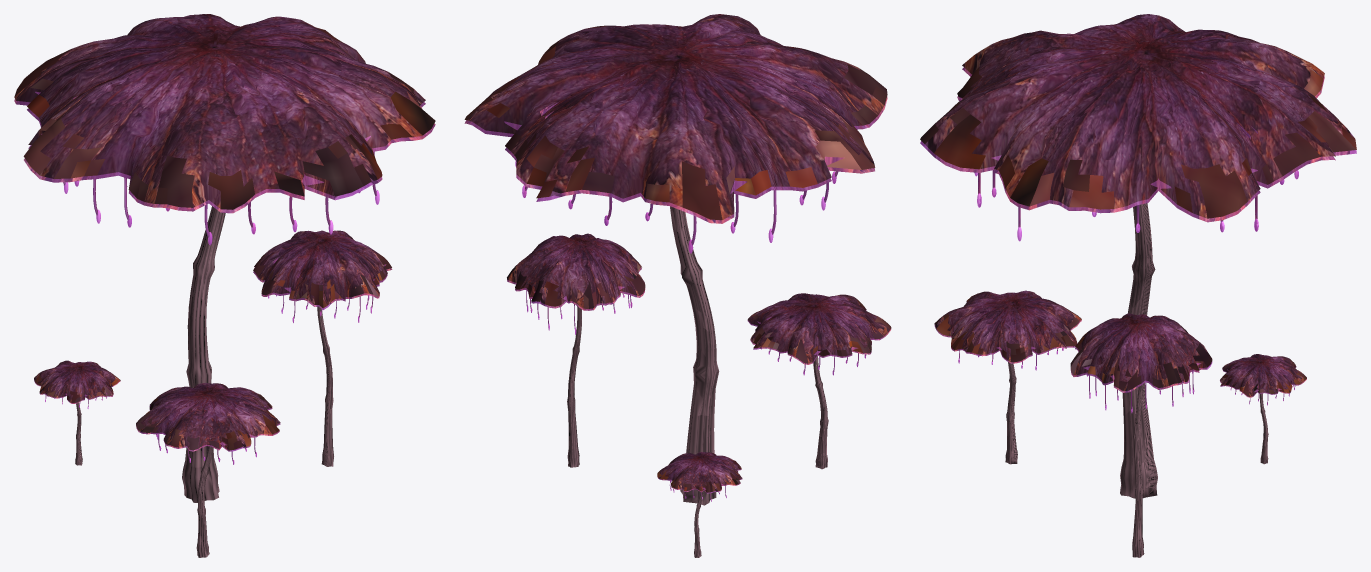
Rendered from parasol_01.glb.
3 renders of one model, left to right at view 1: azimuth 30°, elevation 25°; view 2: azimuth 150°, elevation 25°; view 3: azimuth 270°, elevation 25°, orthographic.
Visible parts, largest first — view 1: export; view 2: export; view 3: export.
Boxes of the visible parts, <box> form: export: <box>14,14,435,557</box>; export: <box>464,14,891,557</box>; export: <box>920,14,1356,557</box>.
Bounding box in the file's own units: 2.65 × 3.07 × 2.7.
5 materials, 5 textured.
